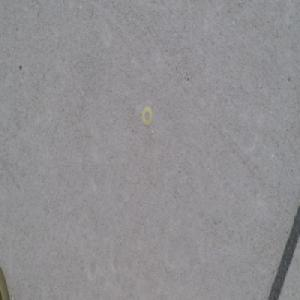Washer: (141, 106, 153, 127)
